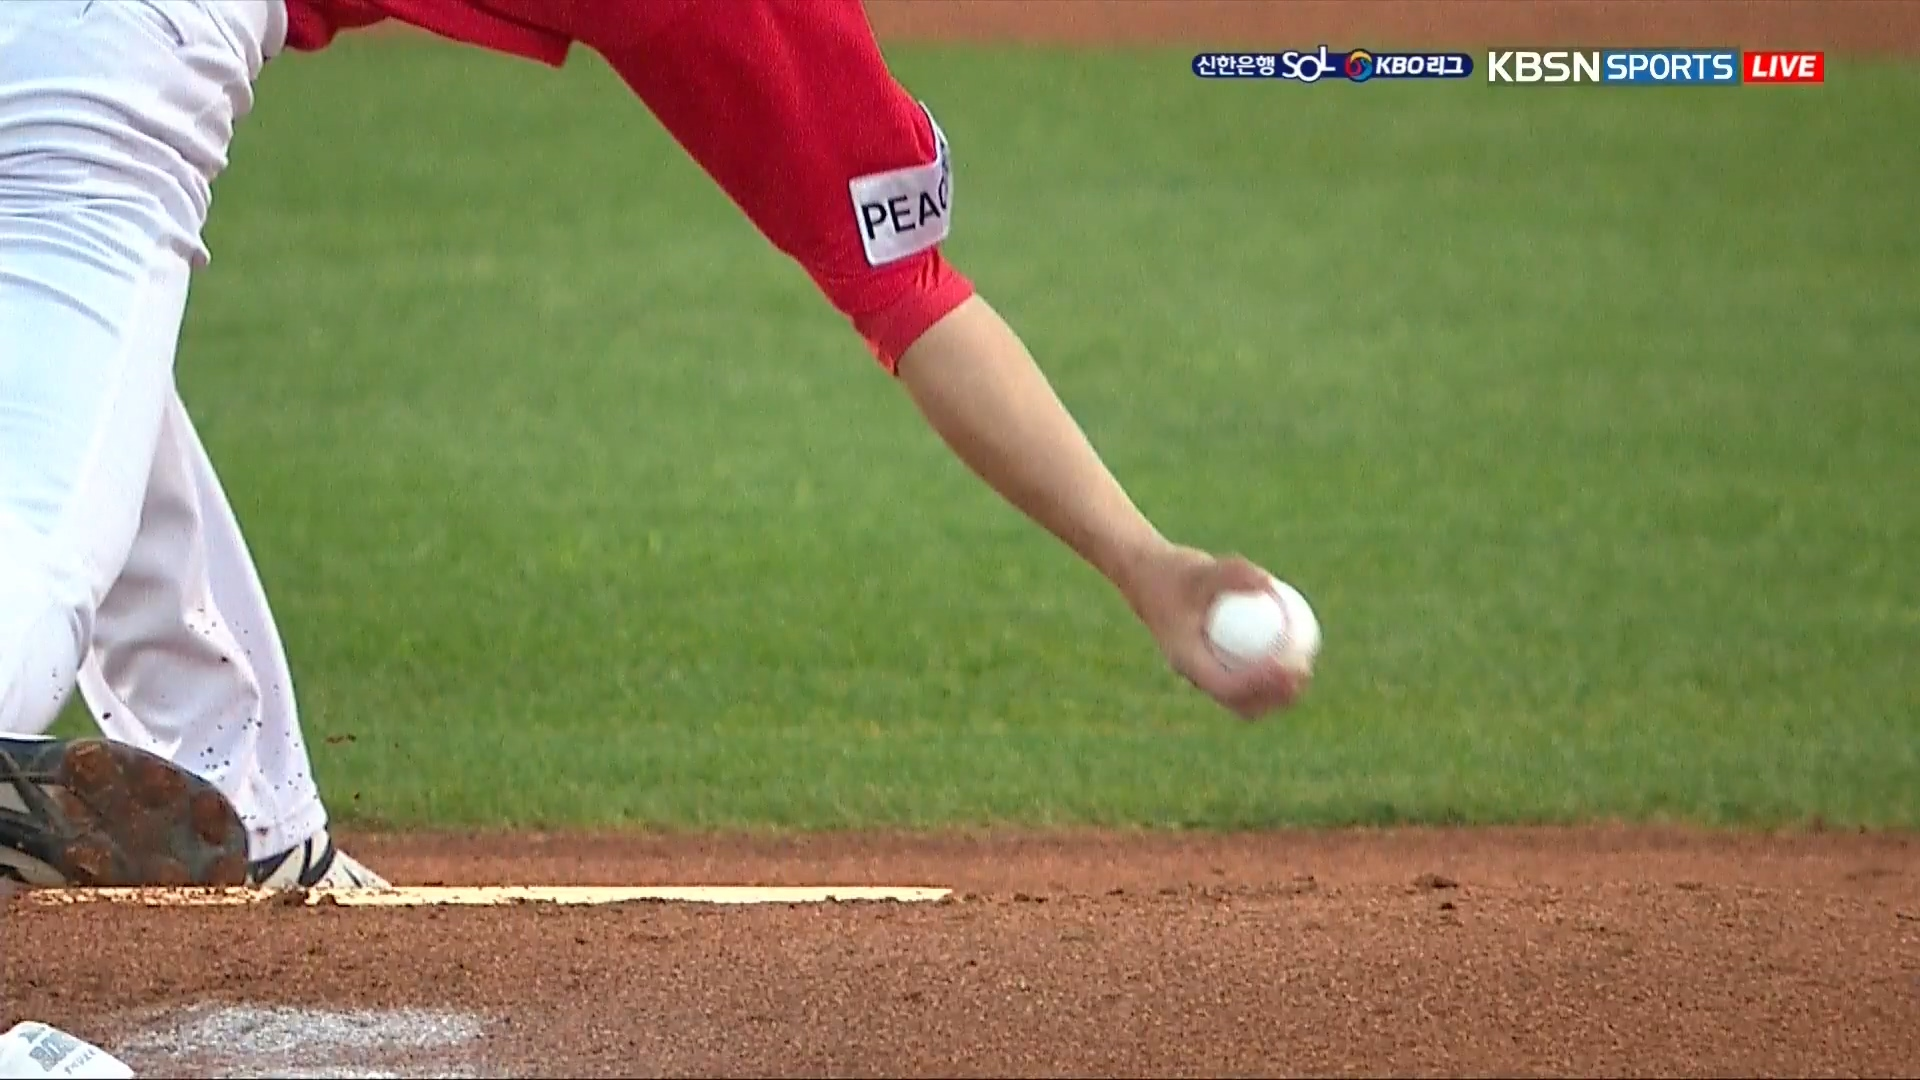zoomin_hand: (790, 215, 1342, 736)
